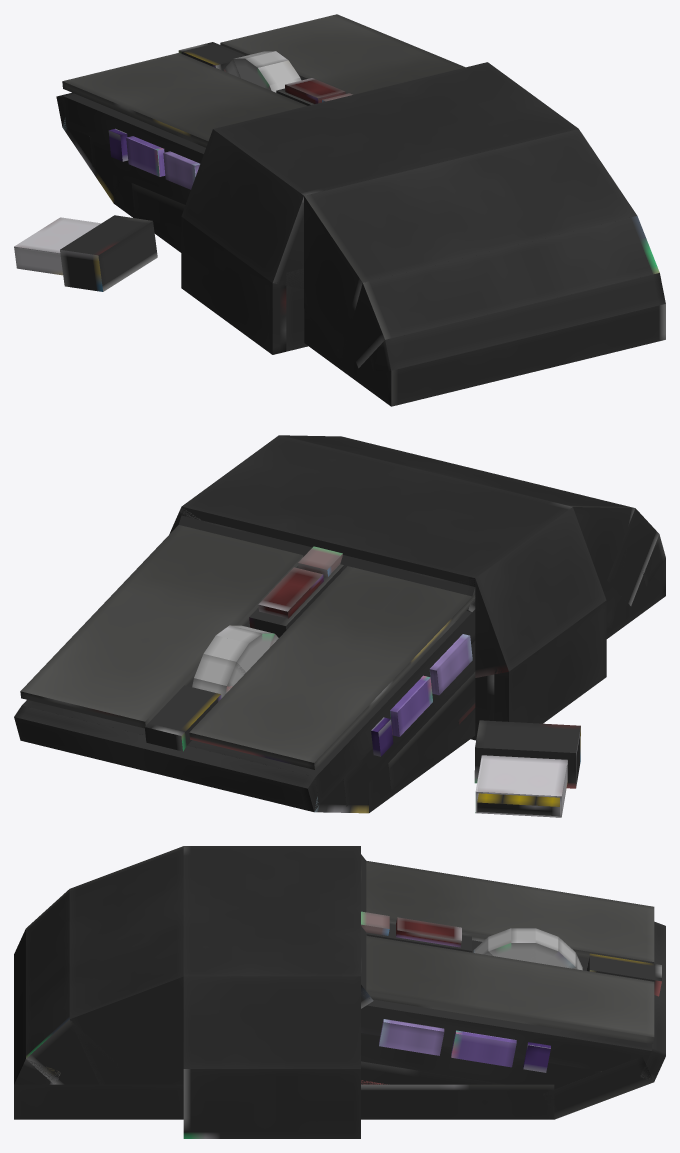
Rendered from Mouse_low_poly_-blockbench.glb.
3 views of the same model, one above another, from view 1: azimuth 30°, elevation 25°; view 2: azimuth 150°, elevation 25°; view 3: azimuth 270°, elevation 25° (orthographic). The views are drawn at different scales.
Visible parts, largest first — view 1: unnamed (×23); view 2: unnamed (×28); view 3: unnamed (×26).
Part boxes in pixels (x1,y1,x2,y2): unnamed (×23): (14, 14, 665, 406); unnamed (×28): (14, 435, 665, 816); unnamed (×26): (14, 846, 665, 1138).
Size of the model in its own units: 2.03 by 0.659 by 2.64.
Materials: 1 (1 with a texture image).
